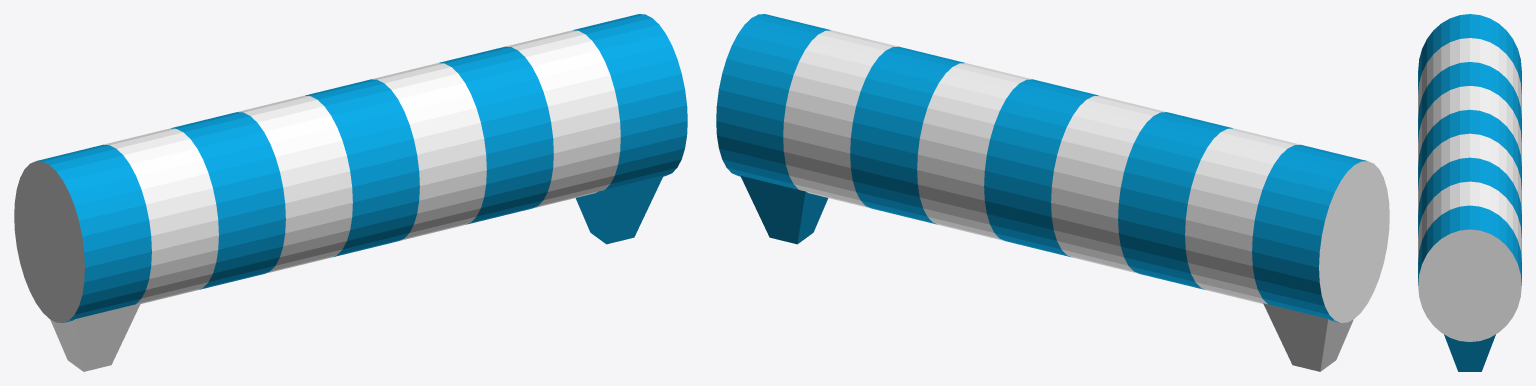
File: SmallBarrier.fbx
The picture shows the model from 3 angles, left to right: view 1: azimuth 30°, elevation 25°; view 2: azimuth 150°, elevation 25°; view 3: azimuth 270°, elevation 25°; orthographic projection. The views are drawn at different scales.
Visible parts, largest first — view 1: Cylinder, Cube; view 2: Cylinder, Cube; view 3: Cylinder, Cube.
Part boxes in pixels (<box>): Cylinder: <box>14,14,687,322</box>; Cube: <box>50,175,663,371</box>; Cylinder: <box>716,14,1389,322</box>; Cube: <box>740,175,1353,371</box>; Cylinder: <box>1418,14,1521,341</box>; Cube: <box>1444,334,1495,371</box>.
Bounding box in the file's own units: 820 × 270 × 167.
